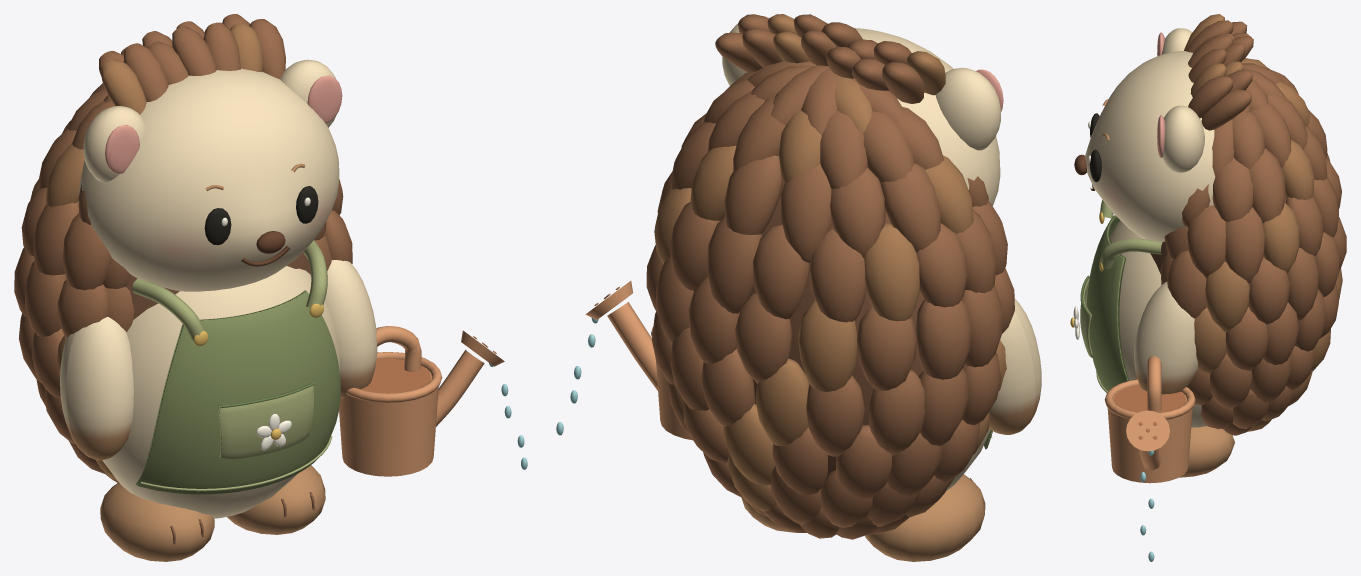
Rendered from gardener-hedgehog.glb.
3 views of the same model, side by side, from view 1: azimuth 30°, elevation 25°; view 2: azimuth 150°, elevation 25°; view 3: azimuth 270°, elevation 25° (orthographic). The views are drawn at different scales.
Visible parts, largest first — view 1: Head.ffffff, Body.84915e, Body.956748, Body.f4dfb8, CanBody.d99a6d, Arm.L.ffffff, Head.956748, Body.a7ad77, Foot.L.bb8b61, Arm.R.ffffff, Foot.R.bb8b61, Head.a67850 (+7 smaller); view 2: Body.956748, Body.a67850, Head.956748, Head.ffffff, Foot.L.bb8b61, Arm.L.ffffff, CanBody.d99a6d, Body.855c42, Head.a67850; view 3: Body.956748, Head.ffffff, Body.a67850, CanBody.d99a6d, Head.956748, Arm.R.ffffff, Body.84915e, Body.f4dfb8, Foot.R.bb8b61, Body.a7ad77, CanBody.b97850, Head.a67850 (+2 smaller).
Boxes of the visible parts, x1=… form: Head.ffffff: x1=78, y1=59, x2=339, y2=291; Body.84915e: x1=136, y1=290, x2=340, y2=494; Body.956748: x1=14, y1=83, x2=352, y2=482; Body.f4dfb8: x1=102, y1=266, x2=339, y2=518; CanBody.d99a6d: x1=339, y1=326, x2=504, y2=476; Arm.L.ffffff: x1=60, y1=317, x2=133, y2=460; Head.956748: x1=99, y1=14, x2=285, y2=101; Body.a7ad77: x1=132, y1=240, x2=332, y2=491; Foot.L.bb8b61: x1=100, y1=482, x2=214, y2=561; Arm.R.ffffff: x1=325, y1=260, x2=377, y2=398; Foot.R.bb8b61: x1=227, y1=465, x2=325, y2=534; Head.a67850: x1=101, y1=23, x2=262, y2=114; Body.956748: x1=646, y1=61, x2=1014, y2=539; Body.a67850: x1=654, y1=76, x2=1006, y2=517; Head.956748: x1=715, y1=14, x2=924, y2=103; Head.ffffff: x1=722, y1=24, x2=1000, y2=205; Foot.L.bb8b61: x1=865, y1=474, x2=985, y2=561; Arm.L.ffffff: x1=988, y1=298, x2=1041, y2=434; CanBody.d99a6d: x1=585, y1=281, x2=692, y2=440; Body.855c42: x1=750, y1=182, x2=923, y2=479; Head.a67850: x1=767, y1=14, x2=945, y2=95; Body.956748: x1=1160, y1=63, x2=1346, y2=435; Head.ffffff: x1=1085, y1=28, x2=1215, y2=241; Body.a67850: x1=1194, y1=58, x2=1342, y2=431; CanBody.d99a6d: x1=1104, y1=356, x2=1195, y2=483; Head.956748: x1=1186, y1=20, x2=1253, y2=130; Arm.R.ffffff: x1=1134, y1=281, x2=1197, y2=394; Body.84915e: x1=1086, y1=215, x2=1129, y2=391; Body.f4dfb8: x1=1110, y1=220, x2=1207, y2=427; Foot.R.bb8b61: x1=1179, y1=426, x2=1234, y2=477; Body.a7ad77: x1=1080, y1=200, x2=1162, y2=392; CanBody.b97850: x1=1114, y1=385, x2=1186, y2=439; Head.a67850: x1=1184, y1=14, x2=1243, y2=97.
Bounding box in the file's own units: 1.45 × 1.51 × 0.9165.
